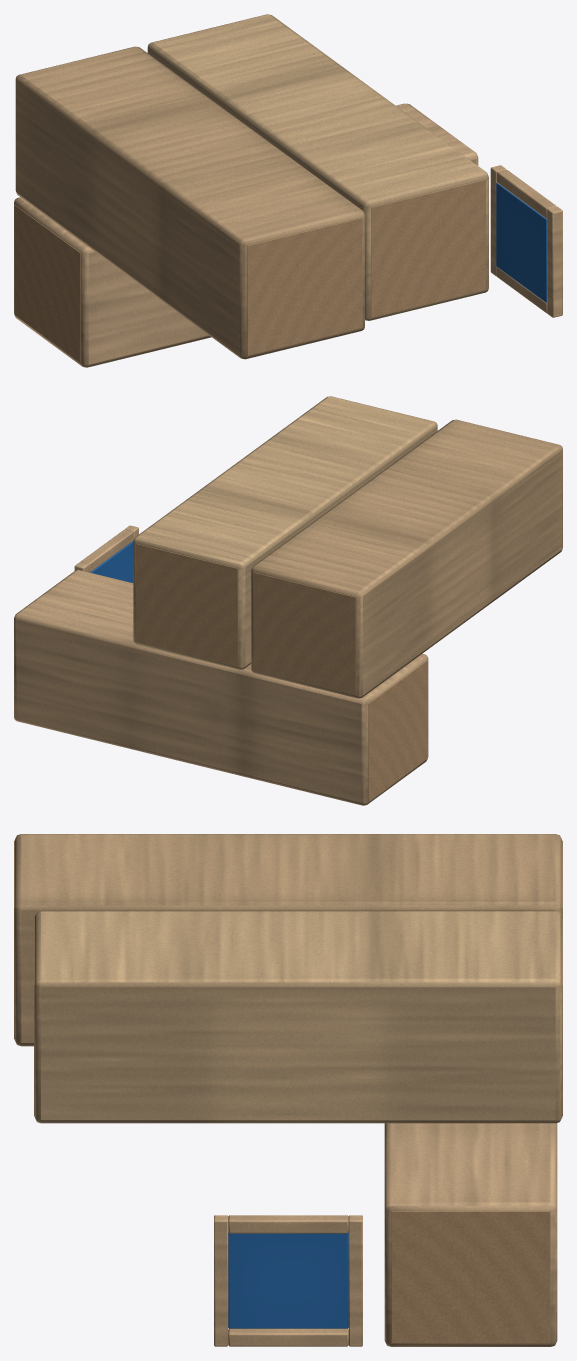
File: 7-crossed-block-layers-3-2.fbx
The picture shows the model from 3 angles, top to bottom: view 1: azimuth 30°, elevation 25°; view 2: azimuth 150°, elevation 25°; view 3: azimuth 270°, elevation 25°; orthographic projection. The views are drawn at different scales.
Visible parts, largest first — view 1: crossed-block-layers-3-2; view 2: crossed-block-layers-3-2; view 3: crossed-block-layers-3-2.
Part boxes in pixels (x1=…): crossed-block-layers-3-2: x1=14, y1=14, x2=562, y2=367; crossed-block-layers-3-2: x1=14, y1=396, x2=562, y2=805; crossed-block-layers-3-2: x1=14, y1=834, x2=562, y2=1346.
Size of the model in its own units: 5667 by 3200 by 5515.
1 material, 1 textured.
